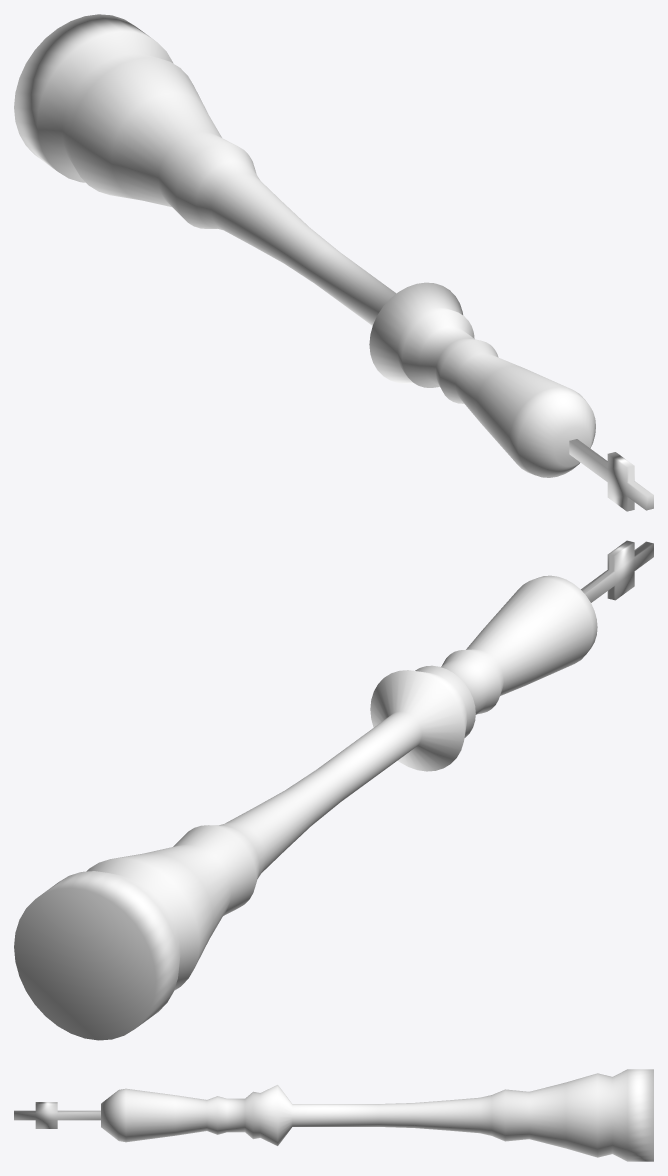
Rendered from king_black.fbx.
The picture shows the model from 3 angles, top to bottom: view 1: azimuth 30°, elevation 25°; view 2: azimuth 150°, elevation 25°; view 3: azimuth 270°, elevation 25°; orthographic projection. The views are drawn at different scales.
Parts seen in each view (by area): view 1: Cylinder; view 2: Cylinder; view 3: Cylinder.
Boxes of the visible parts, <box> form: Cylinder: <box>14,14,653,511</box>; Cylinder: <box>14,540,653,1040</box>; Cylinder: <box>14,1069,653,1161</box>.
Bounding box in the file's own units: 1.61 × 1.61 × 11.12.
1 material, 1 textured.
